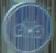bike lane: (5, 2, 50, 51)
